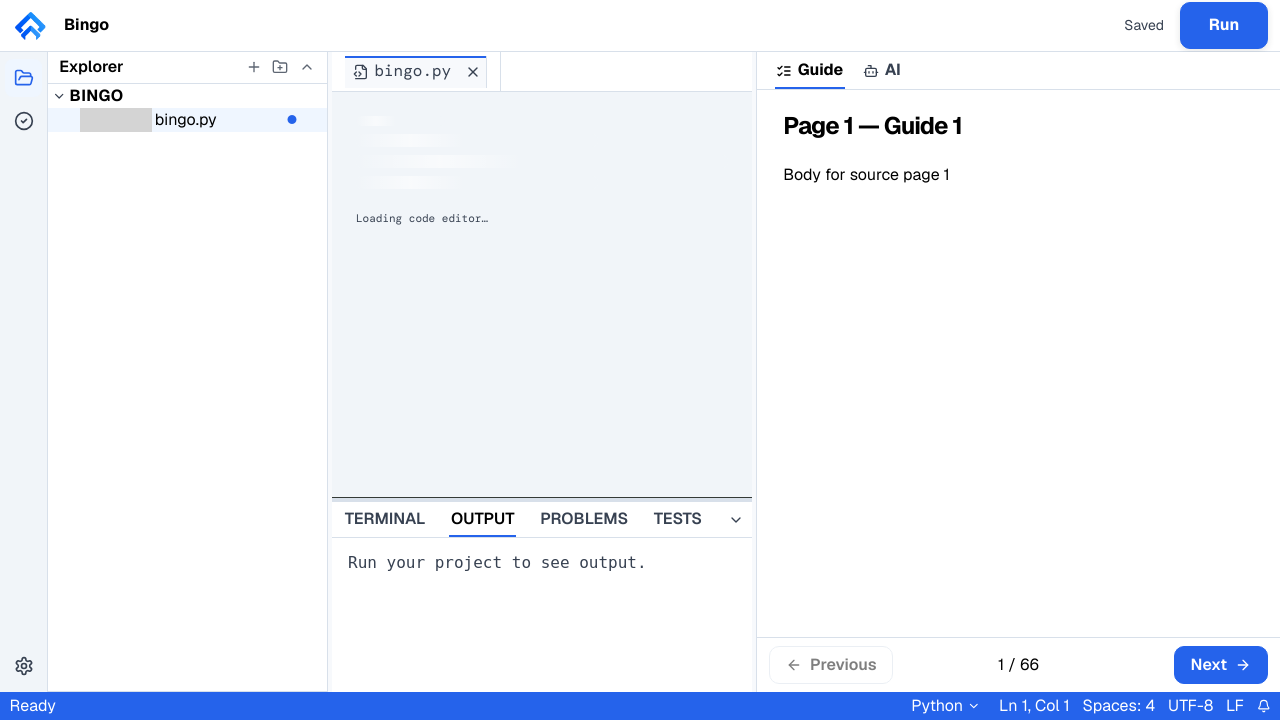
Scenario: canonical source-page Project Guide › renders one page, moves forward and back, without saving reading progress
Expected: the text "Body for source page 1" is shown, left=783, top=164, right=950, bottom=185
Expected: the text "Body for source page 2" is not shown
Click the button "Next": (1221, 665) left=1174, top=646, right=1268, bottom=684
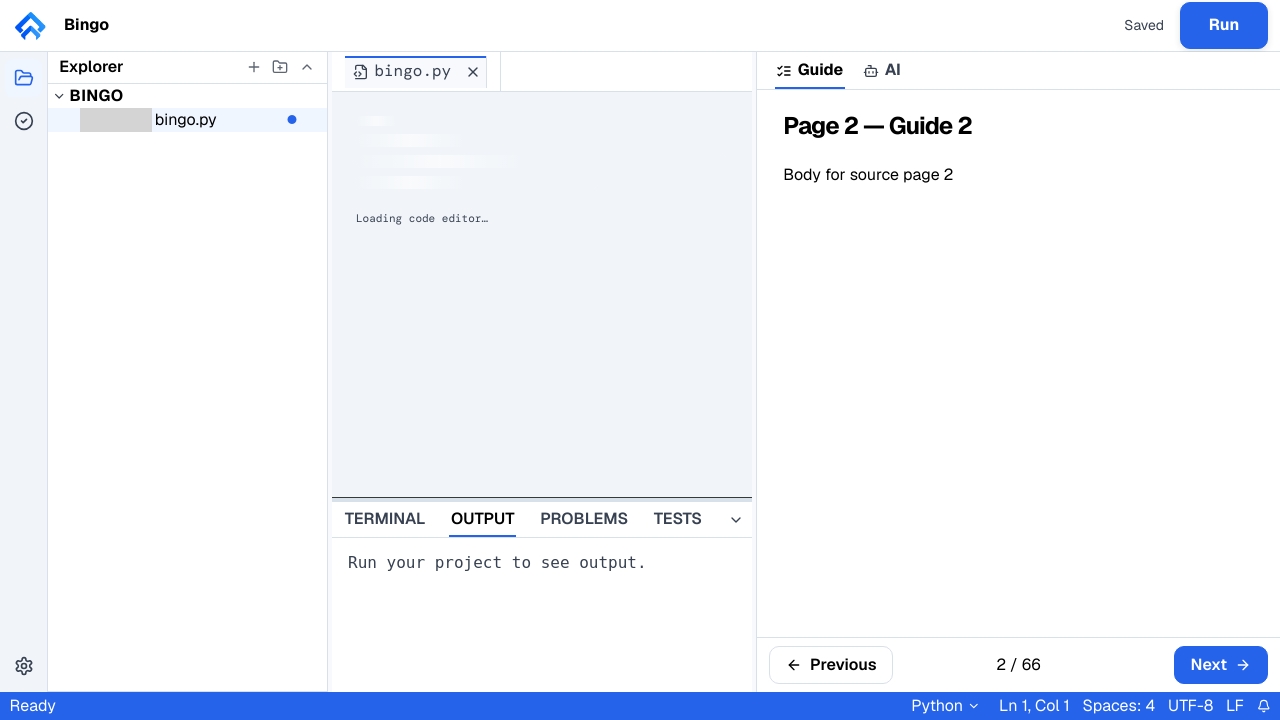
Expected: the text "Body for source page 2" is shown, left=783, top=164, right=954, bottom=185
Expected: the text "Body for source page 1" is gone
Click the button "Previous": (831, 665) left=769, top=646, right=894, bottom=684
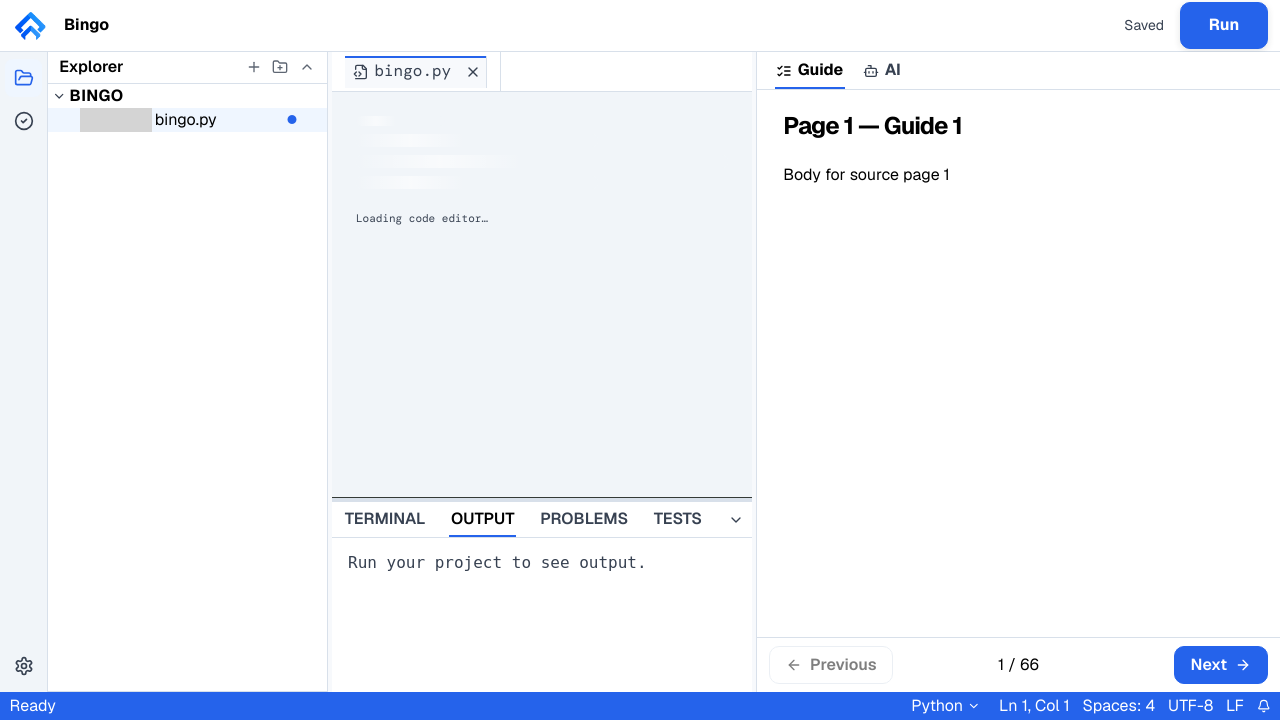
Expected: the text "Body for source page 1" is shown, left=783, top=164, right=950, bottom=185
